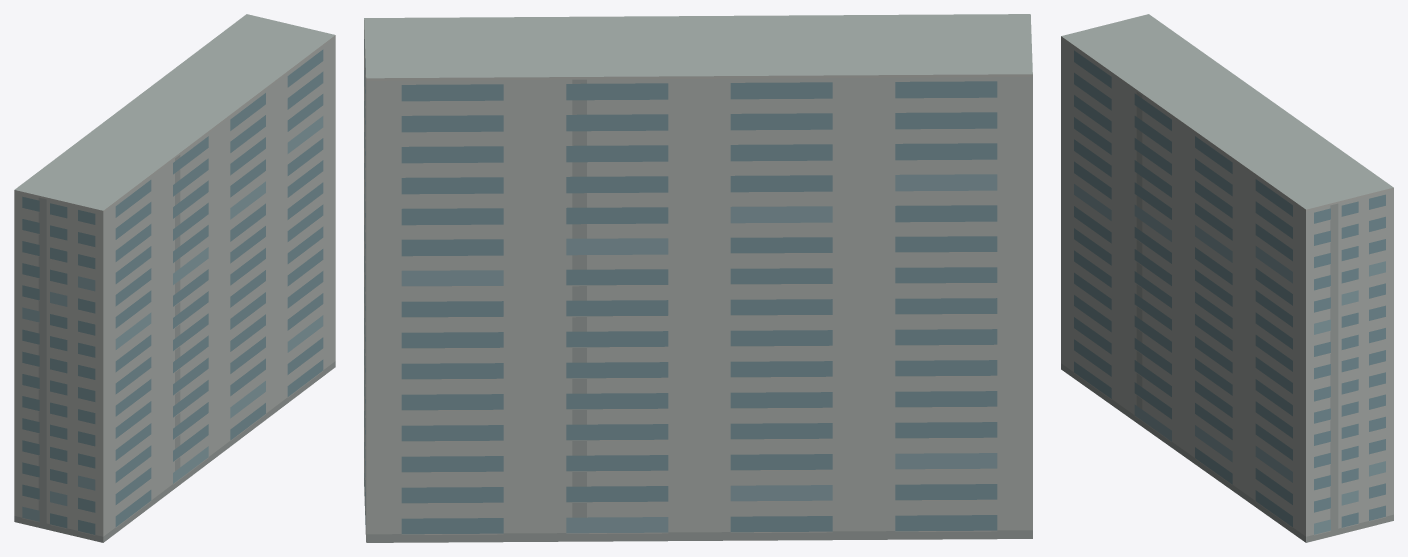
File: residential-a7011485-88f0-4c33-80bd-913a893354e3.glb
3 renders of one model, left to right at view 1: azimuth 30°, elevation 25°; view 2: azimuth 150°, elevation 25°; view 3: azimuth 270°, elevation 25°, orthographic. The views are drawn at different scales.
Parts seen in each view (by area): view 1: residential-a7011485-88f0-4c33-80bd-913a893354e3.tmp; view 2: residential-a7011485-88f0-4c33-80bd-913a893354e3.tmp; view 3: residential-a7011485-88f0-4c33-80bd-913a893354e3.tmp.
Part boxes in pixels (x1,y1,x2,y2): residential-a7011485-88f0-4c33-80bd-913a893354e3.tmp: (14,14,335,542); residential-a7011485-88f0-4c33-80bd-913a893354e3.tmp: (364,14,1032,542); residential-a7011485-88f0-4c33-80bd-913a893354e3.tmp: (1061,14,1393,542).
Size of the model in its own units: 52.9 by 42 by 38.01.
